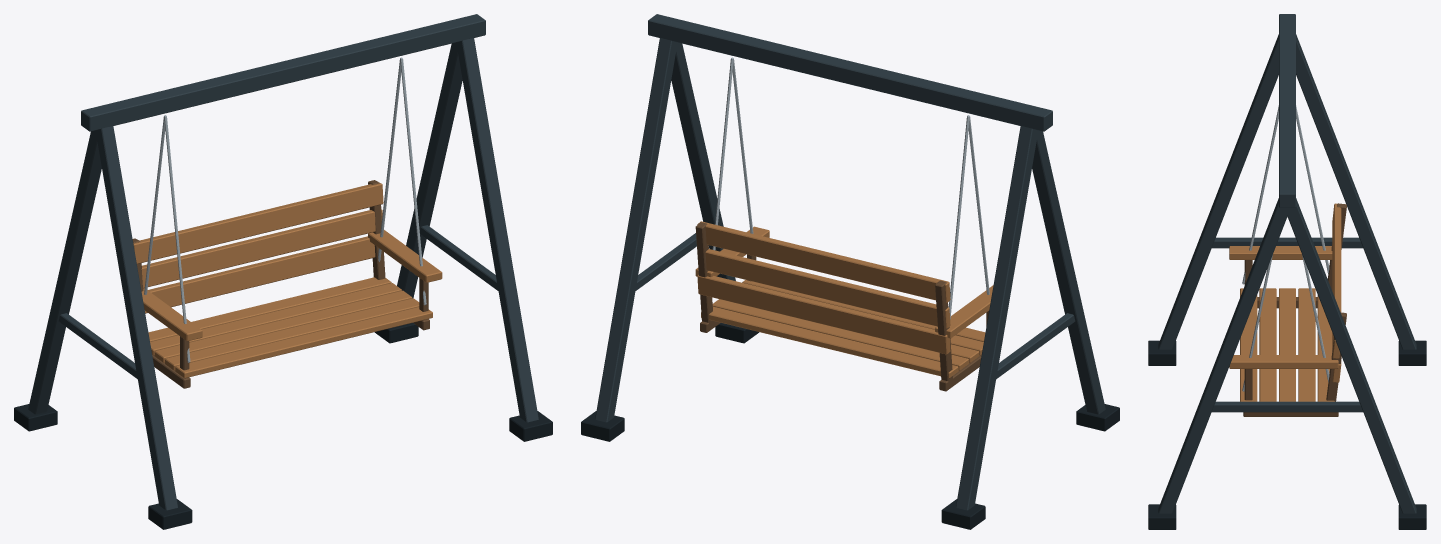
File: b11_backyard_porch_swing_frame.glb
3 views of the same model, side by side, from view 1: azimuth 30°, elevation 25°; view 2: azimuth 150°, elevation 25°; view 3: azimuth 270°, elevation 25° (orthographic). The views are drawn at different scales.
Parts seen in each view (by area): view 1: b11_backyard_porch_swing_frame; view 2: b11_backyard_porch_swing_frame; view 3: b11_backyard_porch_swing_frame.
Part boxes in pixels (left/top/right/bottom): b11_backyard_porch_swing_frame: left=14, top=14, right=552, bottom=529; b11_backyard_porch_swing_frame: left=581, top=14, right=1119, bottom=529; b11_backyard_porch_swing_frame: left=1148, top=14, right=1426, bottom=529.
Bounding box in the file's own units: 2.42 × 2.12 × 1.58.
